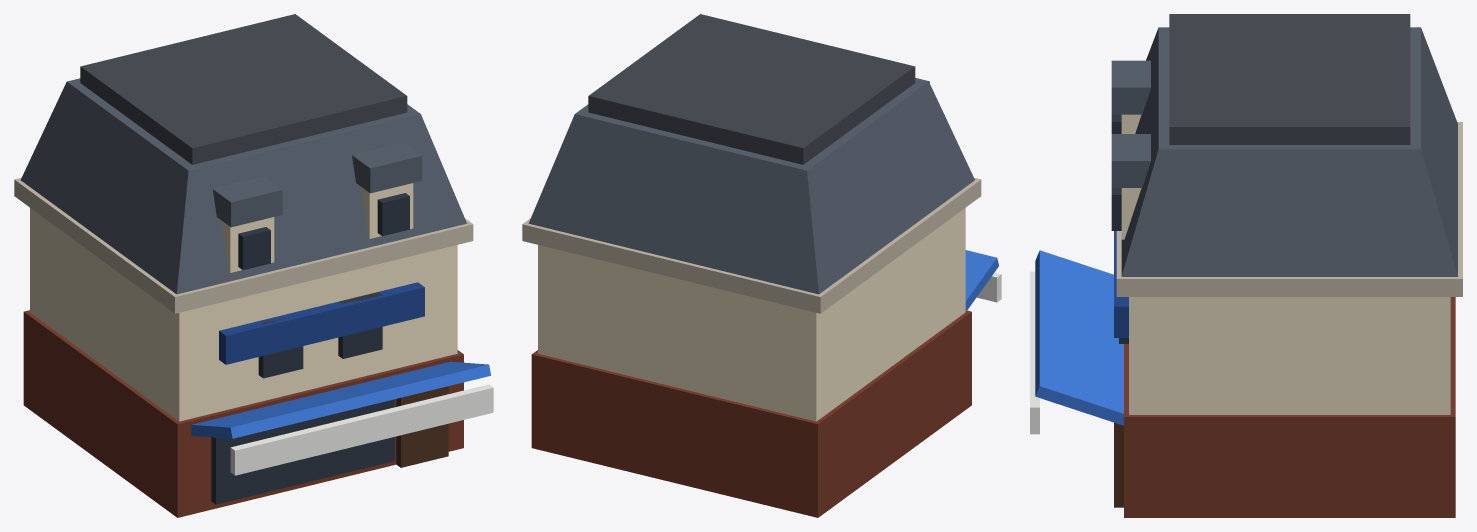
The model's file is house_4_b.glb.
3 renders of one model, left to right at view 1: azimuth 30°, elevation 25°; view 2: azimuth 150°, elevation 25°; view 3: azimuth 270°, elevation 25°, orthographic. The views are drawn at different scales.
Parts seen in each view (by area): view 1: house_4_b; view 2: house_4_b; view 3: house_4_b.
Boxes of the visible parts, x1,y1,x2,y2 form: house_4_b: [14, 14, 493, 517]; house_4_b: [522, 14, 1001, 517]; house_4_b: [1030, 14, 1462, 517].
Bounding box in the file's own units: 0.15 × 0.166 × 0.175.
